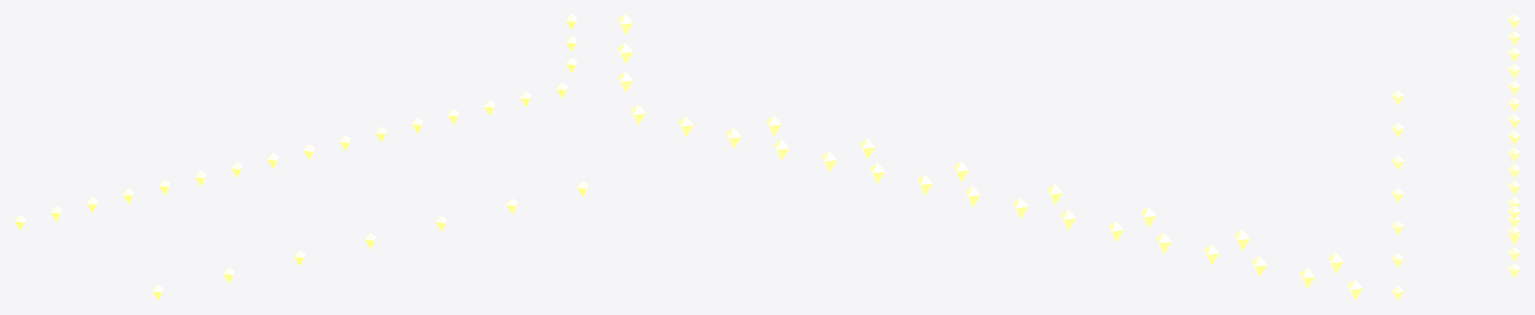
Rendered from bulbs_b.glb.
3 renders of one model, left to right at view 1: azimuth 30°, elevation 25°; view 2: azimuth 150°, elevation 25°; view 3: azimuth 270°, elevation 25°, orthographic. The views are drawn at different scales.
Visible parts, largest first — view 1: bulbs.001; view 2: bulbs.001; view 3: bulbs.001.
Boxes of the visible parts, x1,y1,x2,y2 form: bulbs.001: [14, 14, 588, 300]; bulbs.001: [617, 14, 1362, 300]; bulbs.001: [1391, 14, 1520, 300].
Size of the model in its own units: 7.59 by 1.62 by 1.6.
